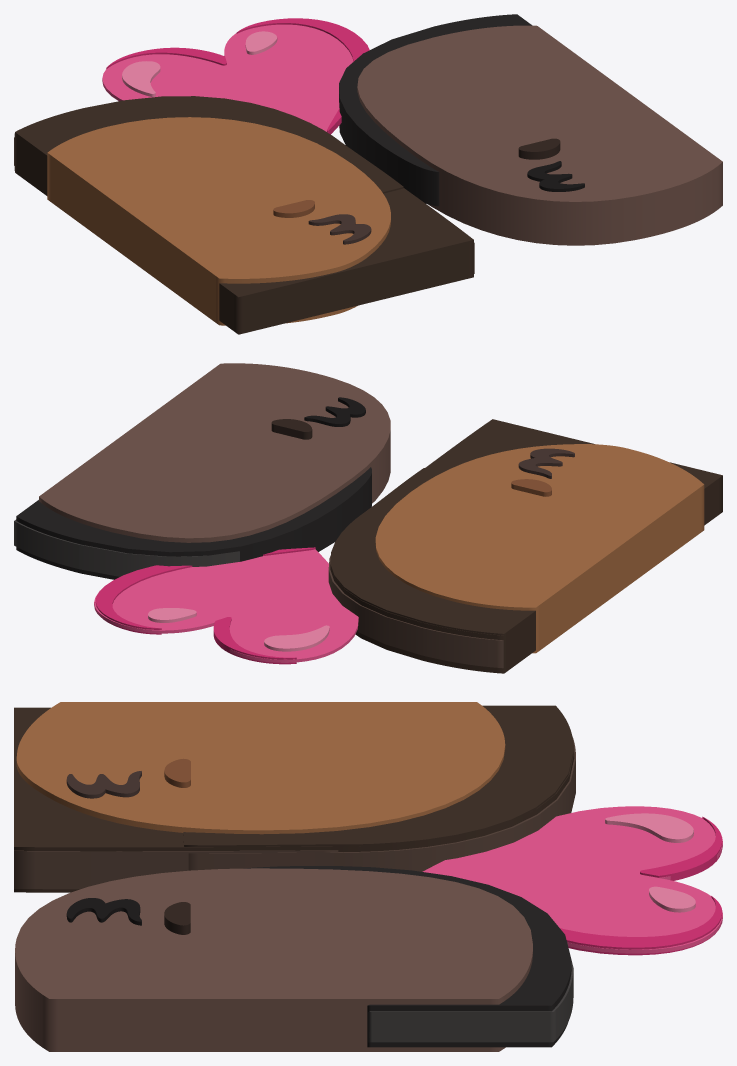
File: emoji_u1f469_1f3fe_200d_2764_200d_1f48b_200d_1f468_1f3ff.glb
The picture shows the model from 3 angles, top to bottom: view 1: azimuth 30°, elevation 25°; view 2: azimuth 150°, elevation 25°; view 3: azimuth 270°, elevation 25°; orthographic projection. The views are drawn at different scales.
Parts seen in each view (by area): view 1: emoji_u1f469_1f3fe_200d_2764_200d_1f48b_200d_1f468_1f3ff; view 2: emoji_u1f469_1f3fe_200d_2764_200d_1f48b_200d_1f468_1f3ff; view 3: emoji_u1f469_1f3fe_200d_2764_200d_1f48b_200d_1f468_1f3ff.
Boxes of the visible parts, x1,y1,x2,y2 form: emoji_u1f469_1f3fe_200d_2764_200d_1f48b_200d_1f468_1f3ff: [14, 14, 722, 334]; emoji_u1f469_1f3fe_200d_2764_200d_1f48b_200d_1f468_1f3ff: [14, 363, 722, 673]; emoji_u1f469_1f3fe_200d_2764_200d_1f48b_200d_1f468_1f3ff: [14, 702, 722, 1051].
Bounding box in the file's own units: 0.0336 × 0.0038 × 0.0339.
